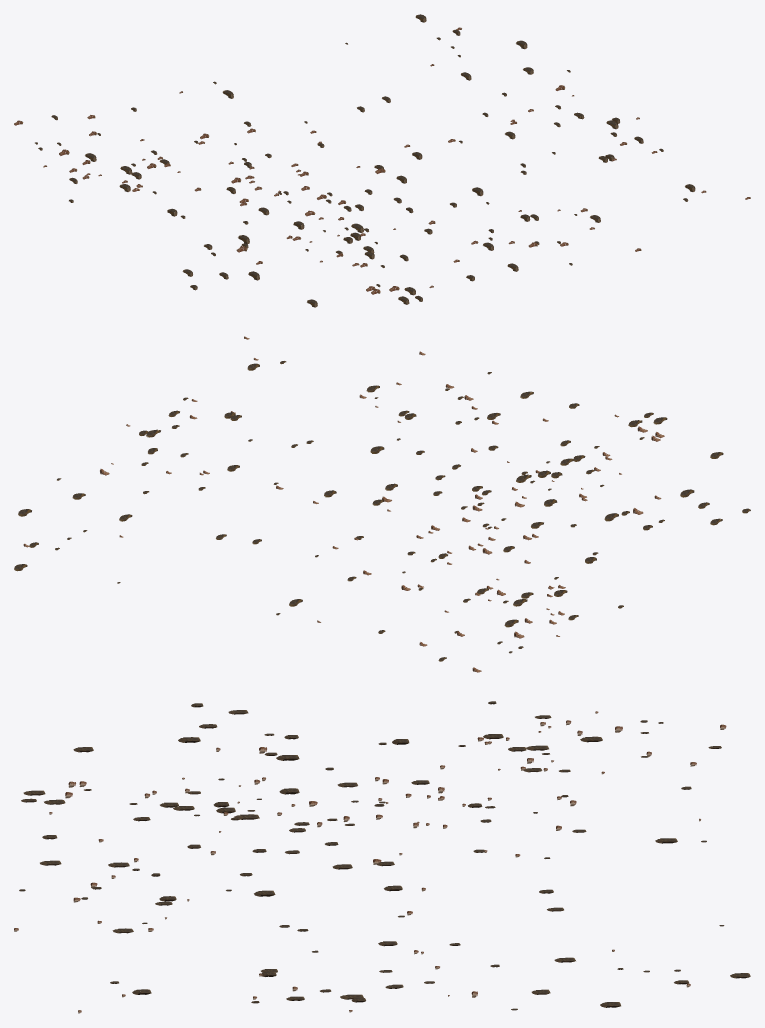
File: pedrisco.glb
The picture shows the model from 3 angles, top to bottom: view 1: azimuth 30°, elevation 25°; view 2: azimuth 150°, elevation 25°; view 3: azimuth 270°, elevation 25°; orthographic projection. The views are drawn at different scales.
Parts seen in each view (by area): view 1: stone_01.001; view 2: stone_01.001; view 3: stone_01.001.
Part boxes in pixels (<box>): stone_01.001: <box>14,14,750,307</box>; stone_01.001: <box>14,336,750,672</box>; stone_01.001: <box>14,701,750,1013</box>.
Bounding box in the file's own units: 9.99 × 0.0881 × 9.99.
Materials: 2 (2 with a texture image).
